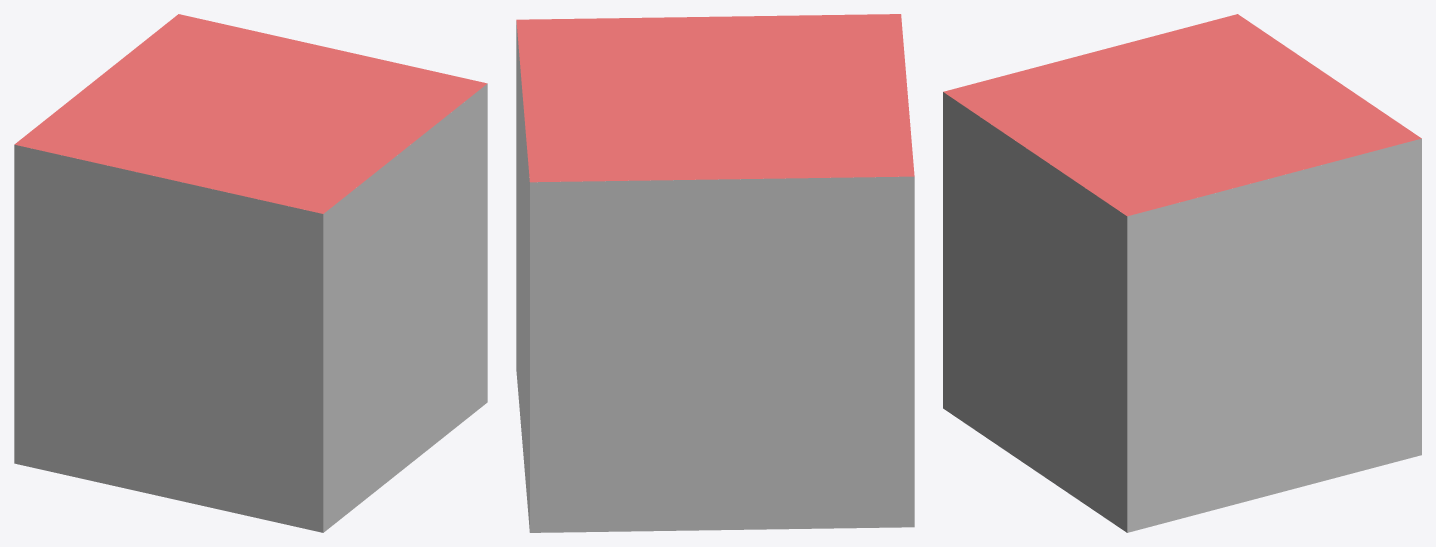
The picture shows the model from 3 angles, left to right: view 1: azimuth 30°, elevation 25°; view 2: azimuth 150°, elevation 25°; view 3: azimuth 270°, elevation 25°; orthographic projection. The views are drawn at different scales.
Visible parts, largest first — view 1: Z_UP; view 2: Z_UP; view 3: Z_UP.
Boxes of the visible parts, x1=… form: Z_UP: x1=14, y1=14, x2=487, y2=532; Z_UP: x1=516, y1=14, x2=914, y2=532; Z_UP: x1=943, y1=14, x2=1421, y2=532.
Size of the model in its own units: 17.91 by 13.07 by 17.91.
